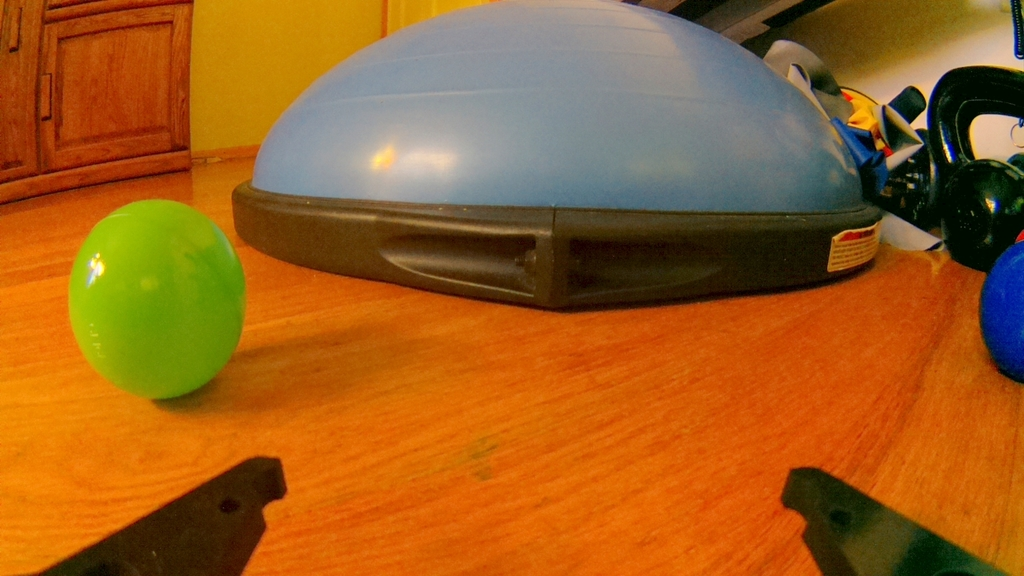ball: (69, 193, 249, 406)
